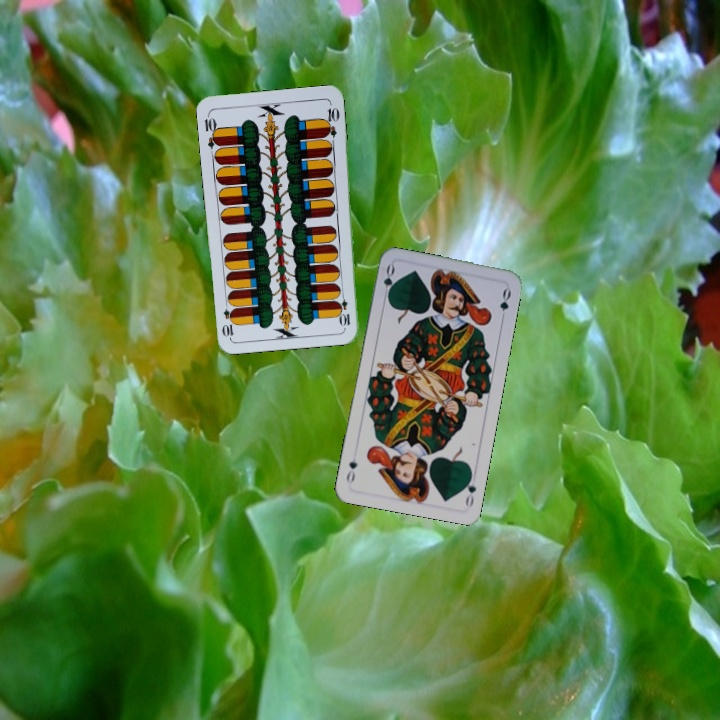E10: (201, 110, 222, 151), (336, 288, 353, 328)
GO: (460, 468, 479, 509), (379, 261, 397, 302)
